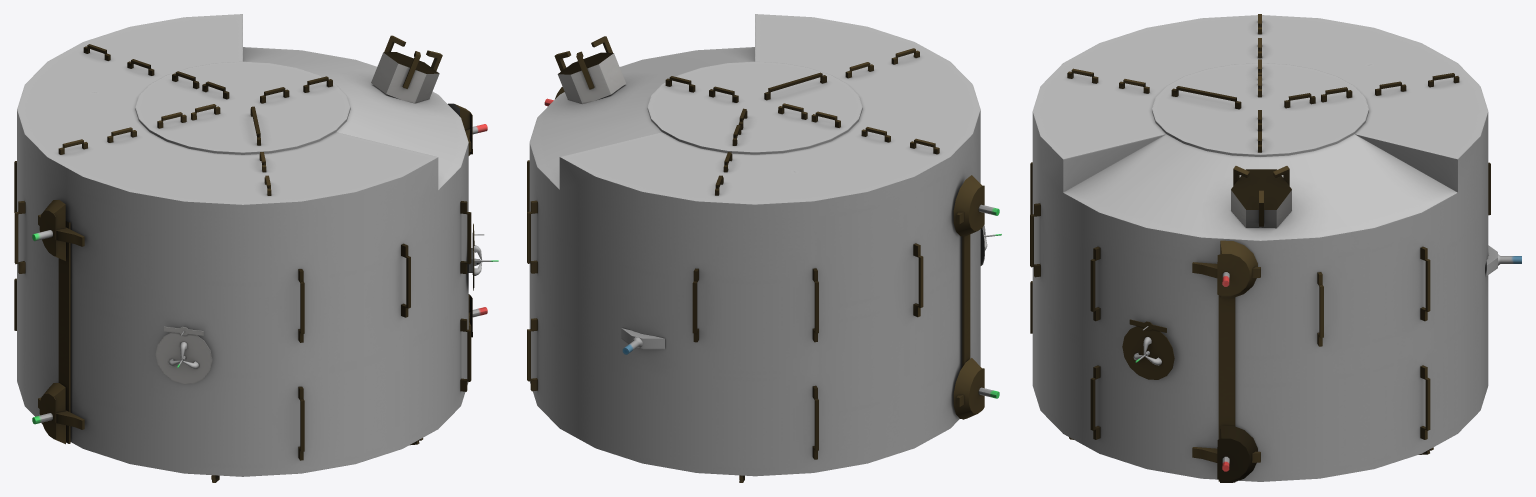
The model's file is IssModule_E.FBX.
The picture shows the model from 3 angles, left to right: view 1: azimuth 30°, elevation 25°; view 2: azimuth 150°, elevation 25°; view 3: azimuth 270°, elevation 25°; orthographic projection.
Visible parts, largest first — view 1: IssModule_E; view 2: IssModule_E; view 3: IssModule_E.
Boxes of the visible parts, x1,y1,x2,y2 form: IssModule_E: (14,14,498,482); IssModule_E: (527,14,1001,482); IssModule_E: (1030,14,1521,482).
Size of the model in its own units: 285 by 198 by 266.
